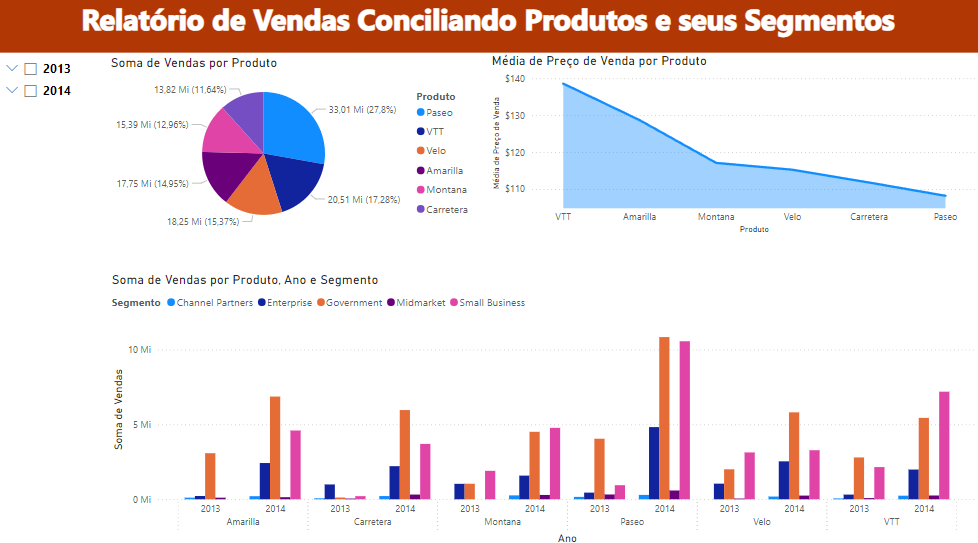

What the dashboard file says about the page in this screenshot:
{"tool":"powerbi","page":{"name":"Página 1","canvas":[1280,720],"ordinal":0},"visuals":[{"type":"pieChart","fields":{"Y":["Sum(financials. Sales)"],"Category":["financials.Product"]},"box":[144.3,78.6,484.3,237.1],"z":0},{"type":"areaChart","fields":{"Category":["financials.Product"],"Y":["Avg(financials.Sale Price)"]},"box":[640,75.7,640,240],"z":1000},{"type":"clusteredColumnChart","fields":{"Category":["financials.Product","financials.Year"],"Y":["Sum(financials. Sales)"],"Series":["financials.Segment"]},"box":[145.7,360,1134.3,360],"z":2000},{"type":"slicer","fields":{"Values":["financials.Date.Variation.Hierarquia de datas.Ano","financials.Date.Variation.Hierarquia de datas.Mês"]},"box":[0,75.7,145.7,641.4],"z":3000},{"type":"textbox","box":[0,0,1280,75.3],"z":4000}]}

Visuals, with their boxes in screenshot pixels (x1, y1, x2, y2), scaled from the page's 1280x720 canvas onto the 978x543 screenshot:
pieChart - Sum(financials. Sales) x financials.Product: l=110, t=59, r=480, b=238
areaChart - financials.Product x Avg(financials.Sale Price): l=489, t=57, r=977, b=238
clusteredColumnChart - financials.Product x financials.Year: l=111, t=272, r=977, b=542
slicer - financials.Date.Variation.Hierarquia de datas.Ano x financials.Date.Variation.Hierarquia de datas.Mês: l=0, t=57, r=111, b=541
textbox: l=0, t=0, r=977, b=57
